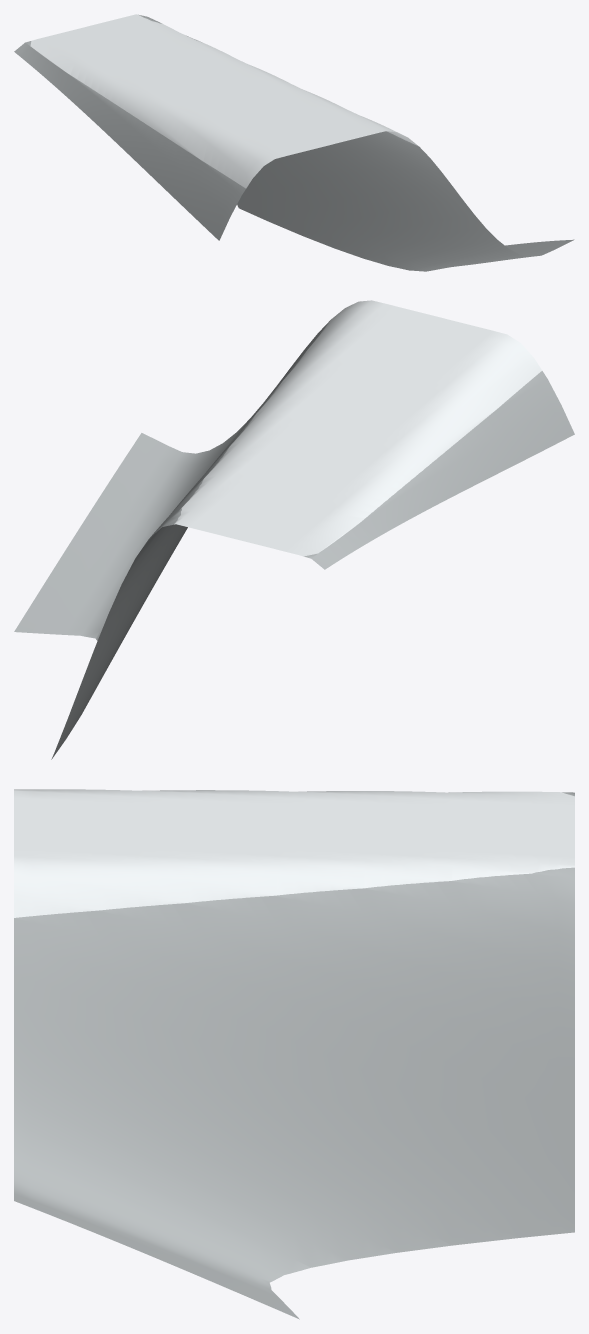
The model's file is alpine-12-7.glb.
The picture shows the model from 3 angles, top to bottom: view 1: azimuth 30°, elevation 25°; view 2: azimuth 150°, elevation 25°; view 3: azimuth 270°, elevation 25°; orthographic projection. The views are drawn at different scales.
Visible parts, largest first — view 1: alpine-12-7; view 2: alpine-12-7; view 3: alpine-12-7.
Boxes of the visible parts, <box> form: alpine-12-7: <box>14,14,574,271</box>; alpine-12-7: <box>14,300,574,759</box>; alpine-12-7: <box>14,789,574,1319</box>.
Size of the model in its own units: 256 by 166 by 256.
Materials: 2 (2 with a texture image).
